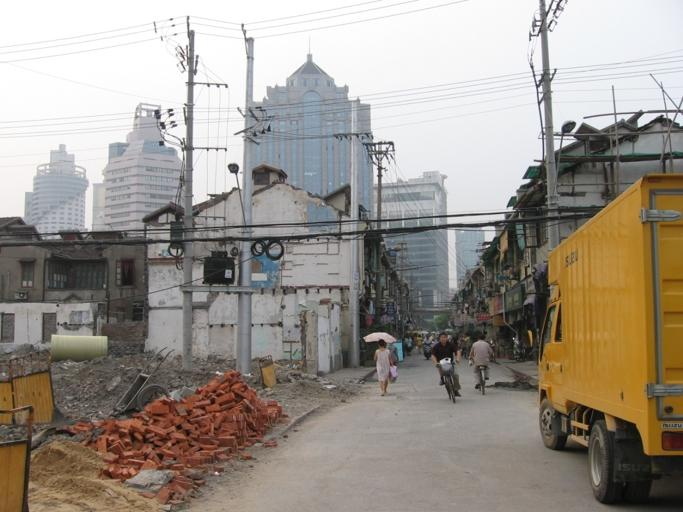non-vehicle: (433, 360, 459, 402), (467, 356, 488, 394)
